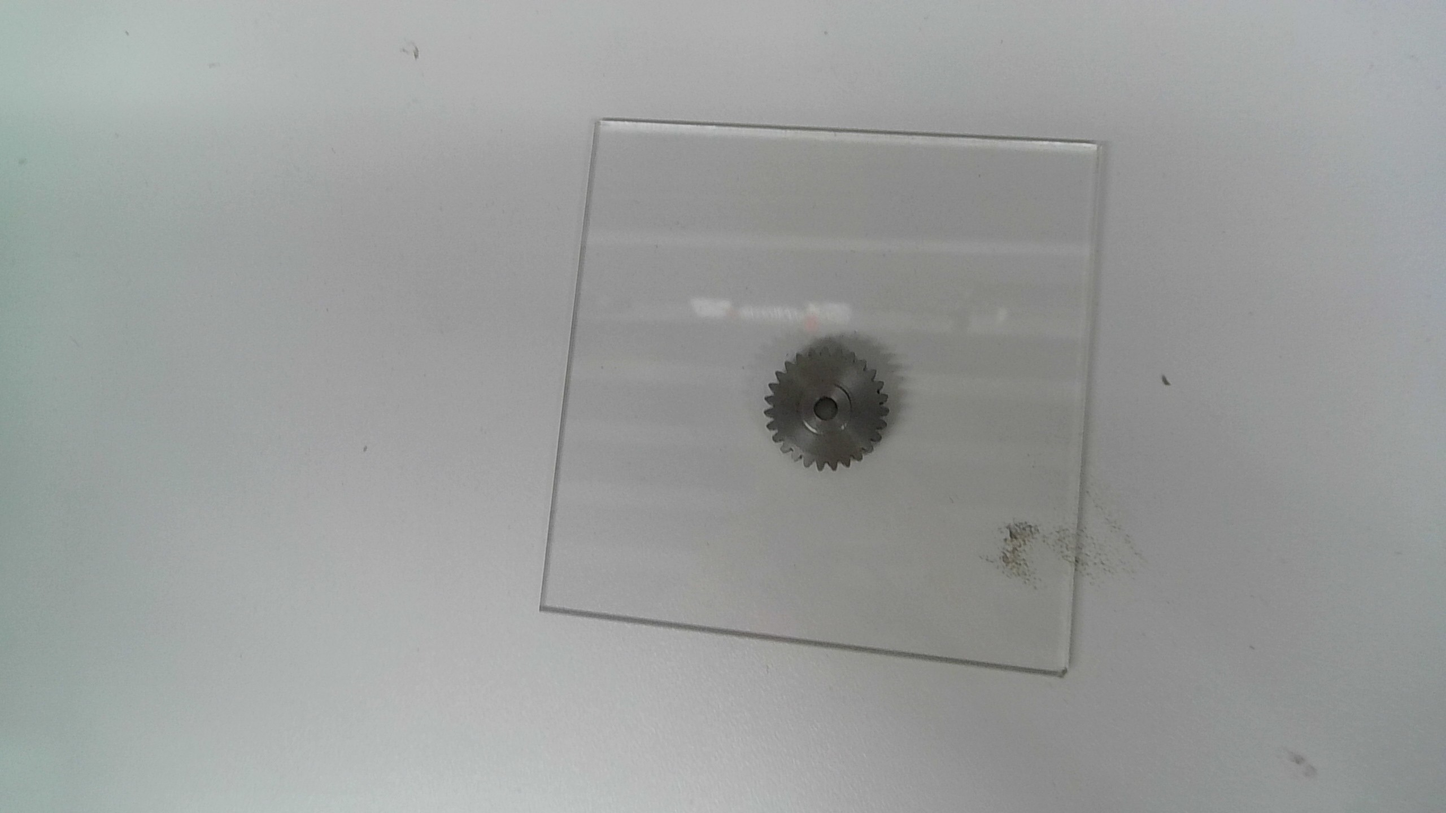gear: (763, 344, 890, 474)
